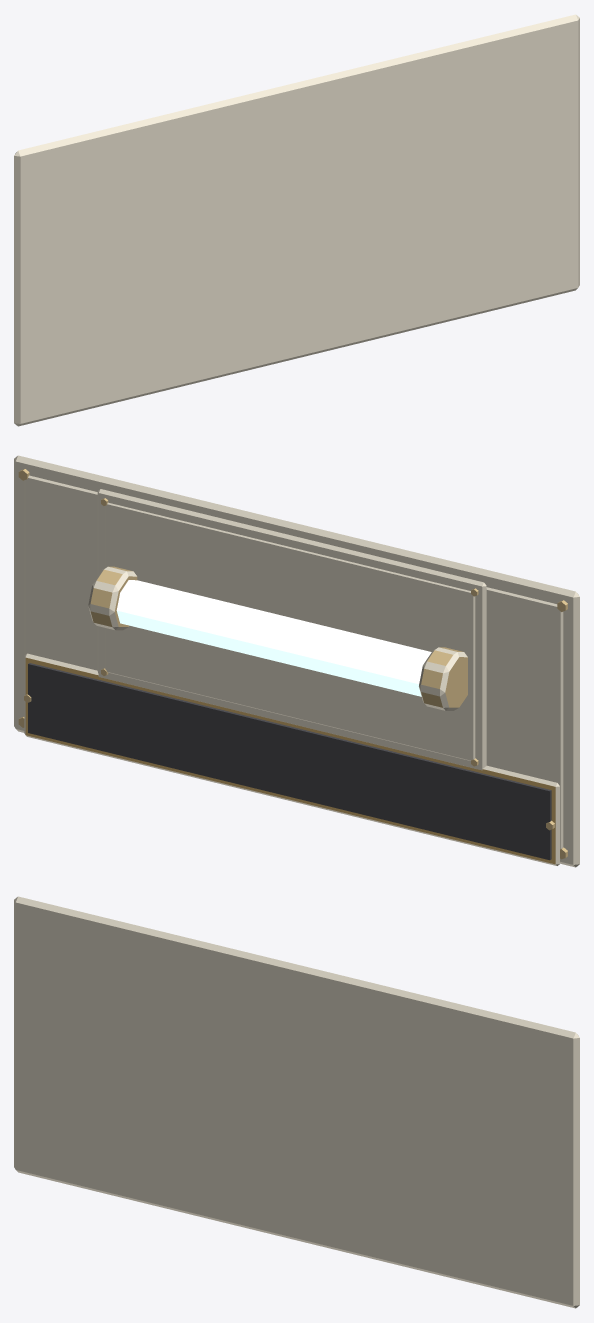
File: Disp_Light_2x1.fbx
The picture shows the model from 3 angles, top to bottom: view 1: azimuth 30°, elevation 25°; view 2: azimuth 150°, elevation 25°; view 3: azimuth 330°, elevation 25°; orthographic projection.
Parts seen in each view (by area): view 1: Disp_Light_2x1; view 2: Disp_Light_2x1, Bulb.002; view 3: Disp_Light_2x1.
Part boxes in pixels (bbox=[...]): Disp_Light_2x1: bbox=[14, 14, 579, 426]; Disp_Light_2x1: bbox=[14, 455, 579, 867]; Bulb.002: bbox=[116, 580, 431, 696]; Disp_Light_2x1: bbox=[14, 896, 579, 1308].
Size of the model in its own units: 2.06 by 0.96 by 0.2154.
